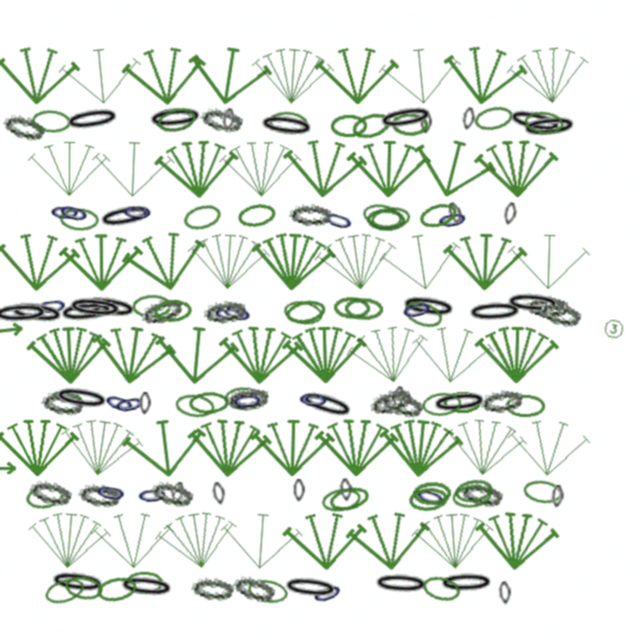chain: (296, 386, 357, 424), (505, 105, 565, 139), (96, 200, 156, 233), (376, 102, 436, 134), (63, 104, 122, 135), (80, 292, 139, 323), (52, 383, 111, 414), (257, 111, 316, 141), (7, 298, 66, 328), (399, 292, 458, 322), (430, 388, 489, 417), (48, 568, 107, 597), (138, 293, 185, 329), (146, 104, 205, 132), (520, 113, 579, 141), (57, 298, 116, 326), (117, 573, 176, 601), (281, 574, 340, 602), (367, 384, 414, 419), (66, 294, 124, 322), (504, 290, 562, 317), (42, 574, 87, 608), (231, 572, 277, 605), (466, 299, 524, 325), (372, 571, 430, 597), (401, 297, 445, 331), (1, 111, 47, 143), (379, 388, 425, 420), (349, 109, 393, 142), (537, 298, 583, 329), (149, 478, 195, 509), (417, 199, 460, 232), (155, 104, 199, 136), (327, 483, 371, 515), (28, 477, 73, 508), (438, 571, 495, 595), (479, 386, 524, 416), (459, 479, 504, 509), (181, 201, 223, 233), (472, 103, 515, 134), (420, 573, 463, 604), (199, 105, 244, 134), (202, 297, 247, 326), (225, 384, 270, 413), (361, 201, 404, 231), (284, 297, 327, 327), (320, 485, 363, 515), (95, 574, 138, 604), (0, 301, 50, 326), (246, 577, 289, 606), (236, 201, 278, 230), (282, 298, 324, 327), (24, 482, 66, 511), (63, 573, 104, 602), (412, 481, 449, 513), (309, 577, 346, 609), (174, 392, 216, 420), (453, 477, 495, 505), (522, 478, 563, 506), (320, 205, 357, 236), (451, 483, 493, 510), (41, 390, 84, 416), (78, 482, 121, 508), (101, 388, 138, 418), (370, 205, 411, 232), (523, 110, 565, 136), (56, 198, 92, 228), (219, 298, 255, 328), (191, 576, 234, 601), (268, 110, 309, 136), (421, 391, 462, 417), (399, 295, 435, 324), (153, 298, 193, 324), (408, 486, 448, 512), (224, 386, 265, 411), (46, 389, 85, 415), (31, 109, 71, 134), (59, 207, 99, 232), (188, 391, 229, 415), (112, 390, 147, 418), (289, 203, 331, 226), (526, 295, 568, 318), (132, 294, 172, 318), (435, 206, 470, 233), (366, 208, 405, 232), (344, 297, 383, 321), (412, 481, 451, 505), (505, 394, 545, 417), (94, 479, 128, 506), (391, 112, 429, 136), (333, 296, 371, 320), (154, 108, 193, 131), (443, 391, 482, 414), (125, 571, 164, 594), (35, 293, 69, 319), (330, 114, 368, 137), (212, 301, 246, 326), (231, 388, 264, 413), (297, 387, 330, 412), (121, 200, 154, 224), (136, 483, 169, 507), (49, 200, 81, 224), (446, 201, 465, 226), (169, 481, 186, 506), (211, 481, 227, 506), (502, 202, 518, 226), (221, 108, 236, 132), (461, 107, 476, 131), (391, 386, 406, 410), (339, 478, 353, 502), (498, 581, 512, 605), (551, 485, 564, 508), (420, 111, 432, 134), (139, 392, 151, 415), (293, 479, 305, 502)
fan: (405, 127, 501, 208), (118, 222, 212, 299), (342, 316, 435, 392), (183, 37, 275, 112), (151, 502, 243, 577), (375, 224, 467, 298), (87, 317, 179, 391), (55, 410, 147, 484), (311, 224, 402, 298), (439, 38, 530, 111), (503, 38, 594, 111), (120, 411, 210, 483), (440, 411, 530, 482), (56, 40, 145, 110), (120, 40, 209, 110), (376, 40, 465, 110), (152, 319, 241, 389), (408, 319, 497, 389), (376, 412, 465, 482), (344, 505, 433, 575), (472, 505, 561, 575), (280, 133, 369, 202), (249, 226, 337, 295), (25, 505, 113, 574), (153, 134, 241, 202), (185, 413, 273, 481), (217, 506, 305, 574), (409, 506, 497, 574), (249, 41, 336, 109), (217, 320, 304, 388), (505, 413, 592, 481), (185, 227, 272, 294), (90, 135, 176, 201), (26, 321, 112, 387), (282, 507, 368, 573), (442, 228, 528, 293), (346, 135, 431, 200), (474, 135, 559, 200), (506, 228, 591, 293), (282, 321, 367, 386), (474, 321, 559, 386), (250, 414, 335, 479), (314, 414, 399, 479), (90, 507, 175, 572), (0, 227, 81, 295), (218, 136, 303, 200), (0, 41, 81, 108), (59, 229, 143, 293), (315, 43, 399, 106), (27, 136, 111, 199), (0, 415, 79, 478)
noise: (601, 316, 626, 341), (0, 320, 25, 340), (0, 462, 18, 474)
